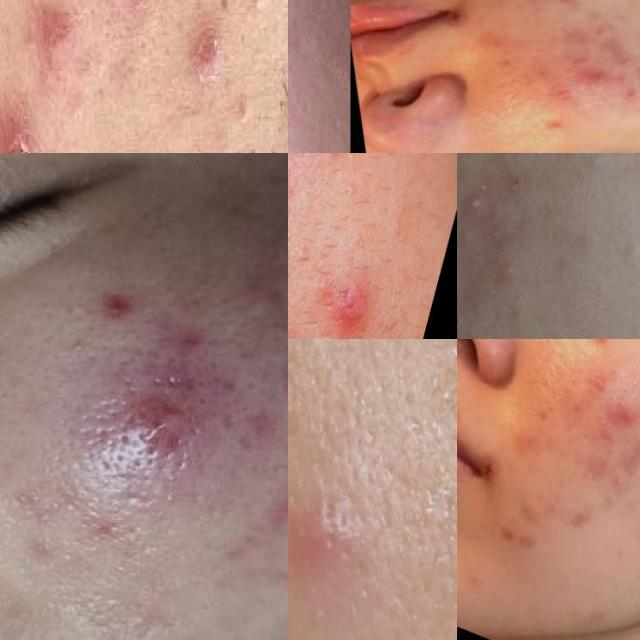acne_scars: (126, 370, 224, 397), (493, 519, 546, 560), (564, 498, 608, 546), (552, 0, 596, 12)
comedone: (485, 242, 540, 300), (45, 333, 98, 376), (238, 0, 276, 50), (458, 176, 496, 222), (612, 222, 640, 278), (457, 217, 487, 256), (610, 30, 640, 67), (588, 363, 618, 400), (626, 432, 640, 492), (550, 84, 580, 108)
cystic: (62, 396, 242, 506)
papule: (288, 446, 385, 637), (300, 260, 392, 339), (184, 18, 236, 132), (42, 0, 87, 78), (98, 270, 145, 328), (595, 384, 640, 440), (0, 116, 47, 153), (565, 61, 617, 94), (607, 84, 640, 109)
